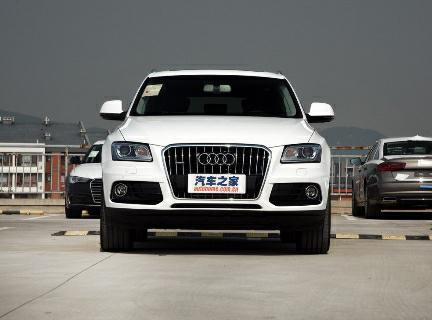奥迪-Q5: (93, 63, 338, 260)
